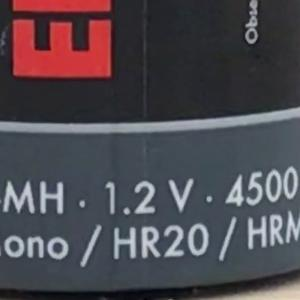keyword: (105, 214, 211, 268)
